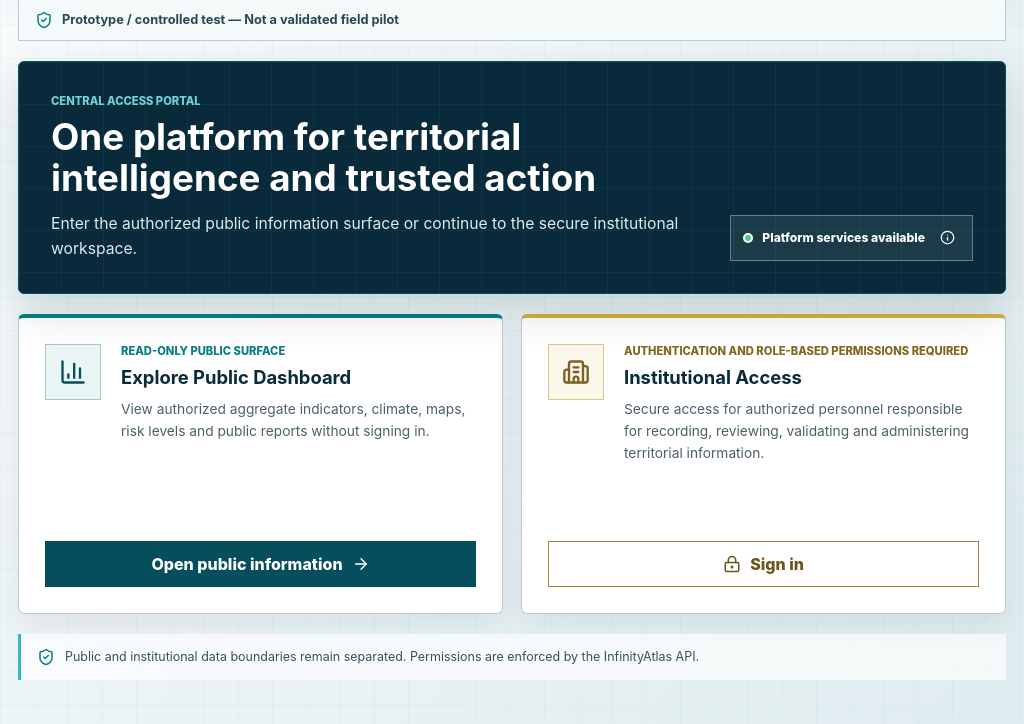
Scenario: Sprint 1B application › hides title editing from a monitor after validation
(page scrolled)
Click the button "Sign in".
click(764, 564)  # box [548,541,979,587]
(page scrolled)
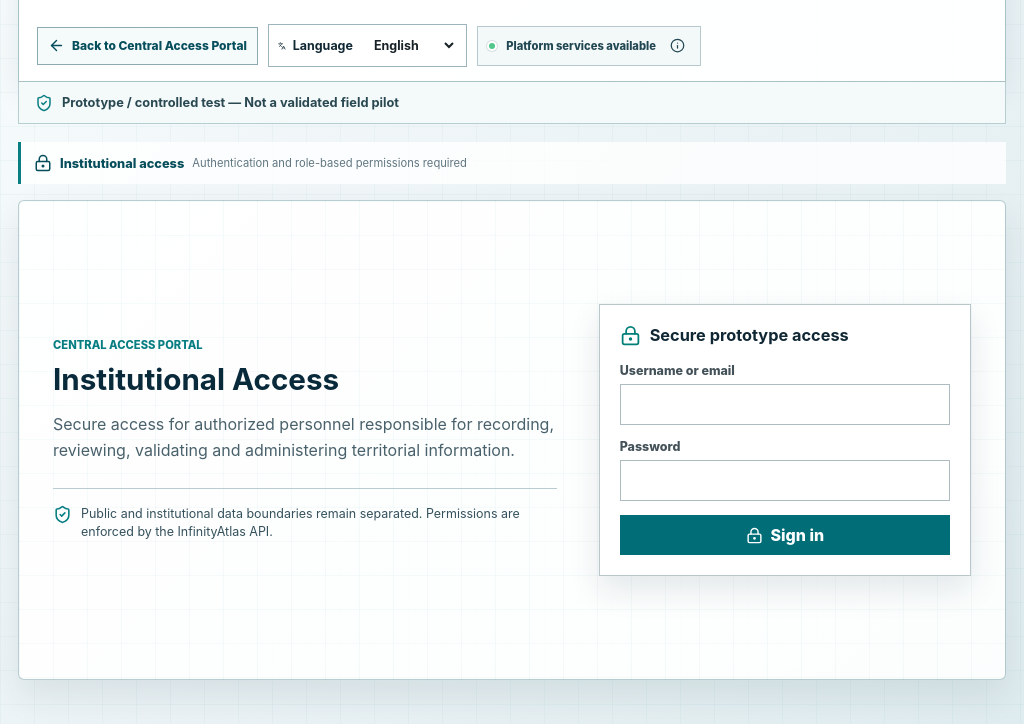
expect the field labelled "Username or email" is shown: met
Type "demo-monitor" into the field labelled "Username or email".
click(785, 405); type("demo-monitor")  # box [620,384,950,425]
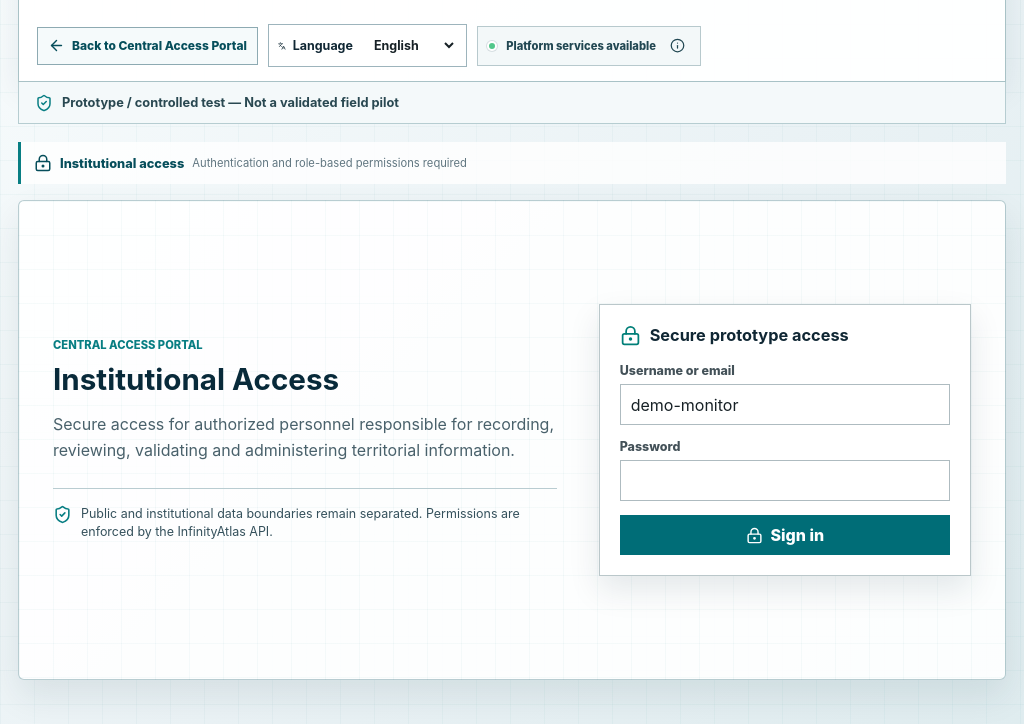
Type "local-password" into the password field labelled "Password".
click(785, 481); type("local-password")  # box [620,460,950,501]
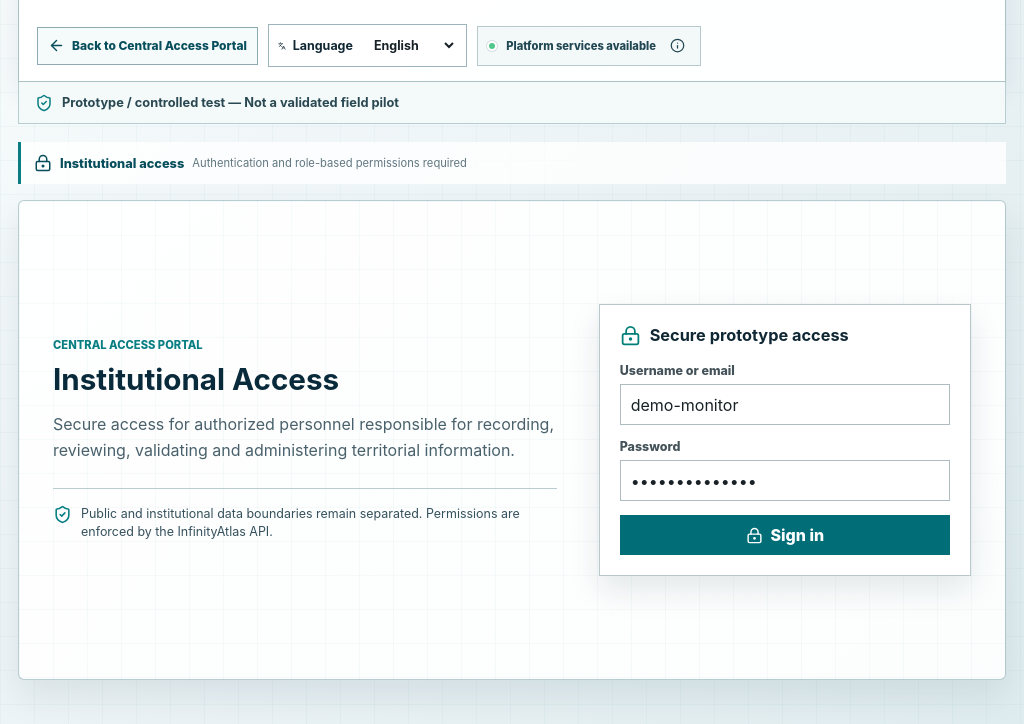
Click the button "Sign in".
click(785, 535)  # box [620,515,950,555]
(page scrolled)
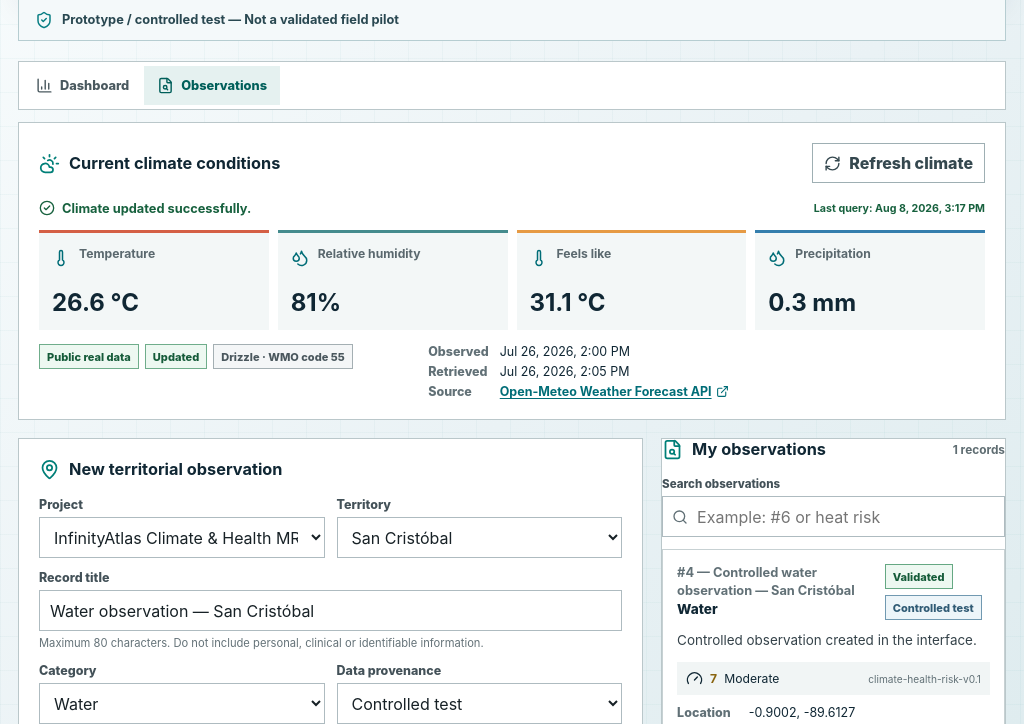
expect the text "#4 — Controlled water observation — San Cristóbal" is shown: met, box [677,564,875,599]
